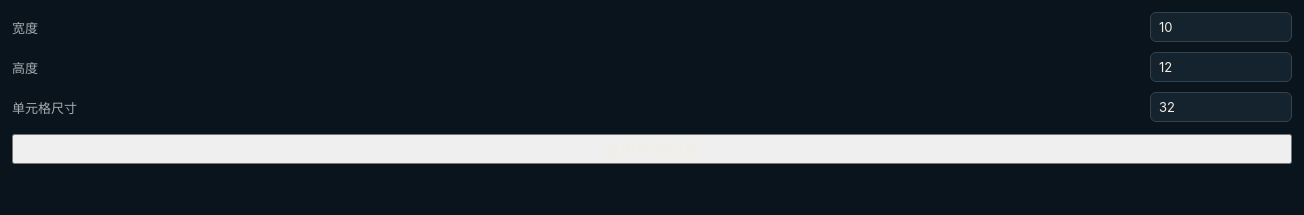
Test: MapSettingsForm › 把底层越界拒绝显示为非破坏性错误
The width and height of the screenshot is (1304, 215).
Click the button "应用地图设置" at [652, 149], box [12,134,1292,164]
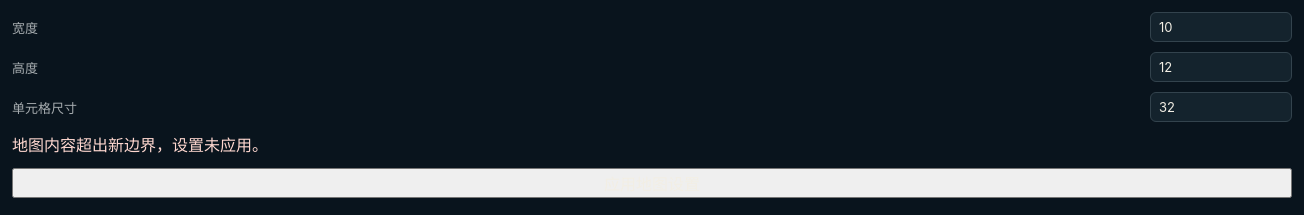
Now the message shows "设置未应用", box [12,135,268,155]
